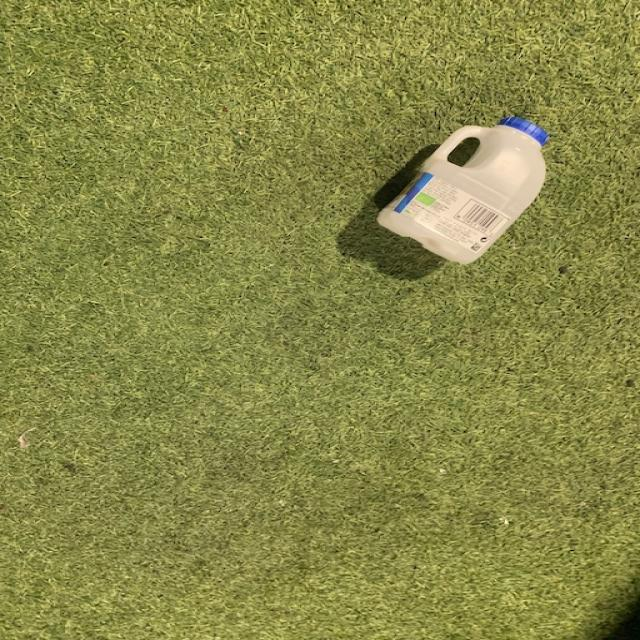litter: (370, 112, 556, 274)
